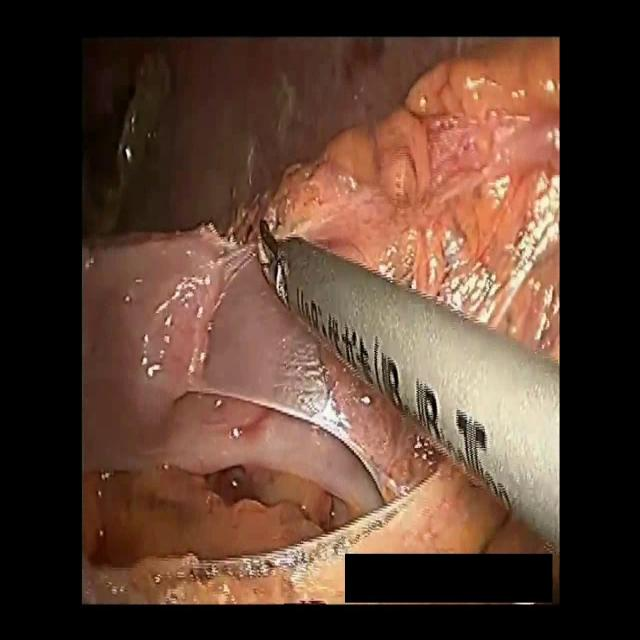surgical-area: (78, 36, 562, 606)
surgical-tool: (258, 213, 561, 555)
